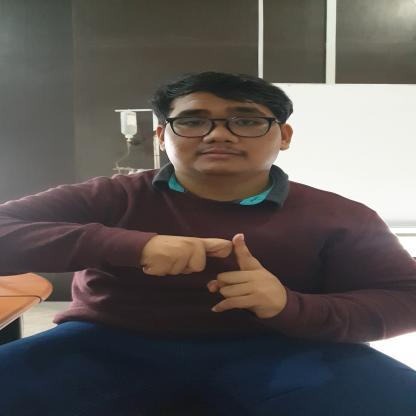K: (134, 230, 291, 320)
